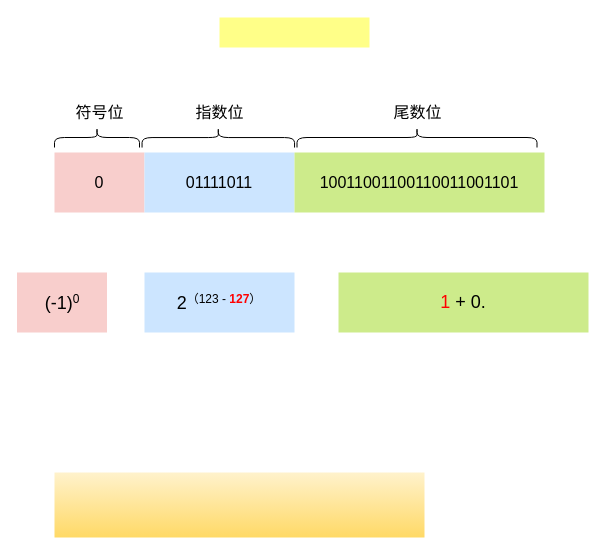
This 606x554 diagram has some shape labels left out. Each missing label, with the centre of its shape:
"(-1) 0 x ( 1 + 尾数位 ) x 2 （指数 - 127 ）" belongs at point (239, 504).
"0.1 二进制浮点数" belongs at point (294, 32).
